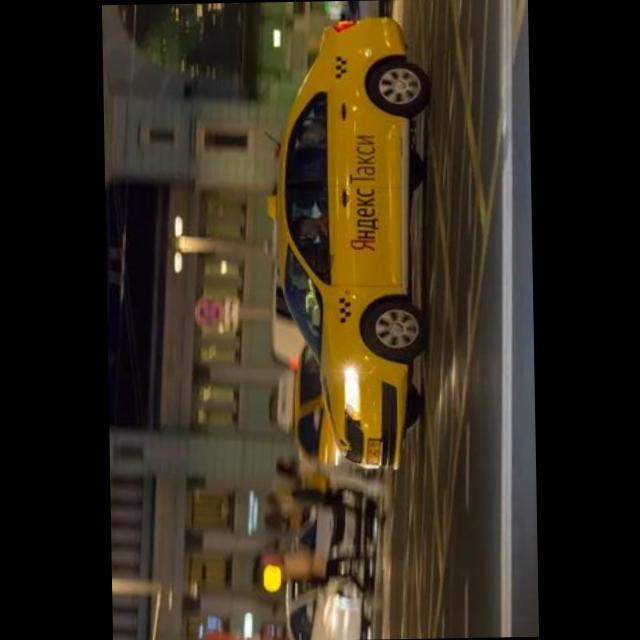taxi: (262, 15, 437, 473)
